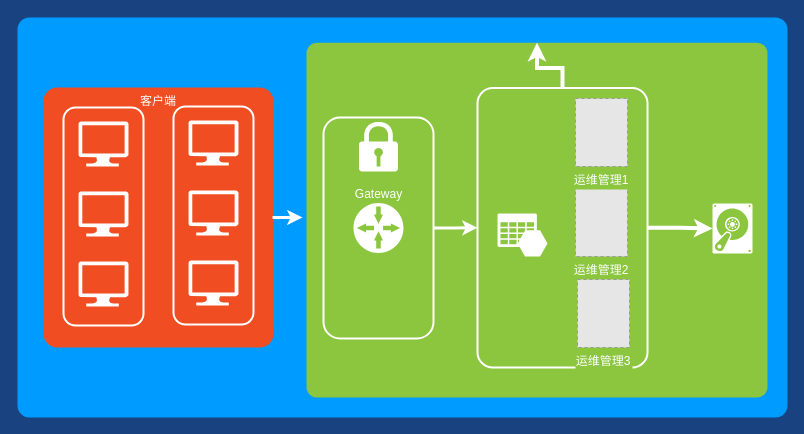
The diagram is 804 pixels wide and 434 high, and some of its shapes have lost their labels. Grey dashed boxes stand in for pictures. Each missing label, with the centre of its shape:
"Redis 同步锁" goes at [522,234].
"共享存储" goes at [732,228].
